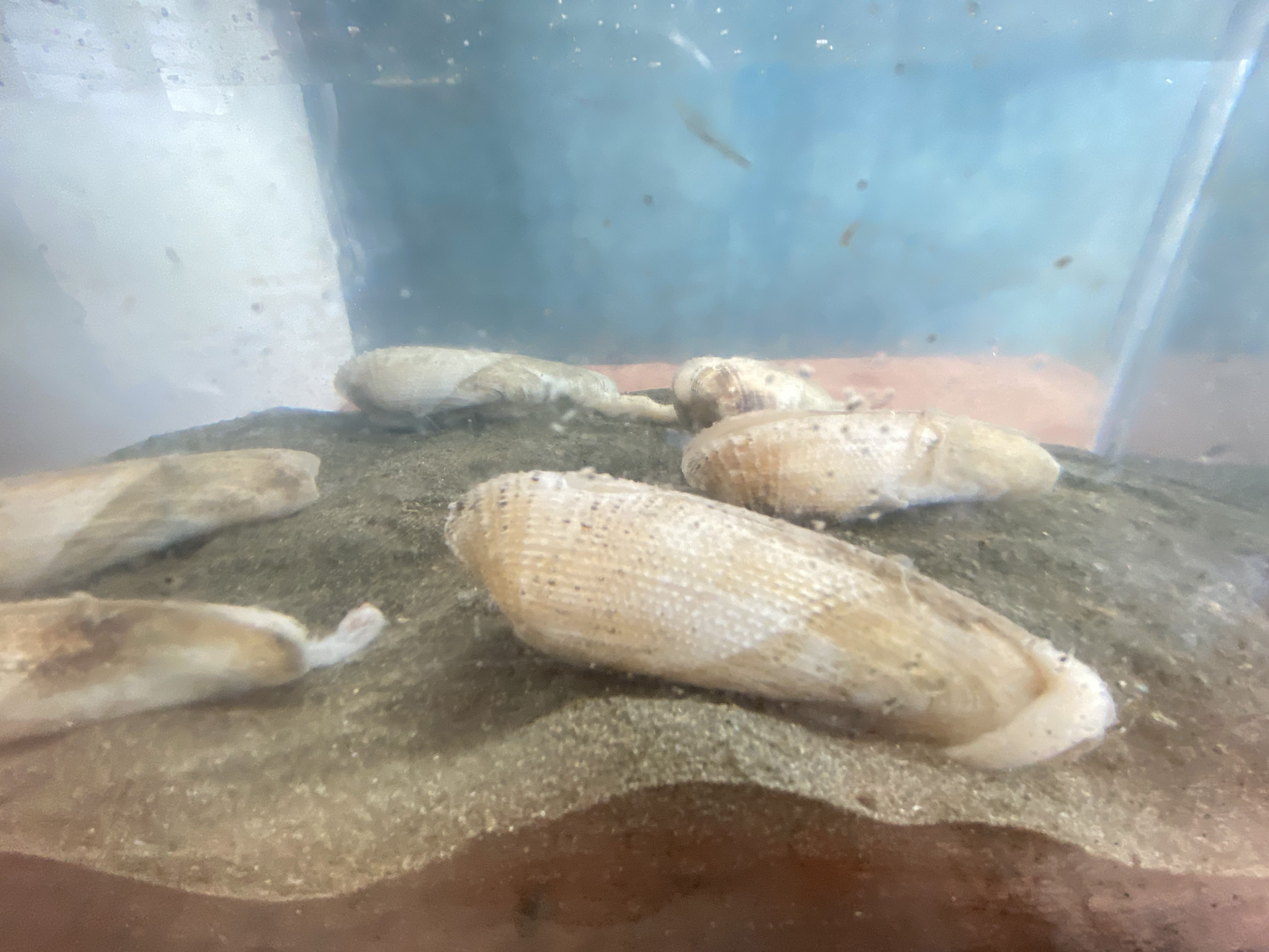At risk: (446, 472, 1114, 768), (0, 593, 386, 742), (0, 448, 320, 597), (682, 410, 1059, 521), (335, 346, 676, 426)
